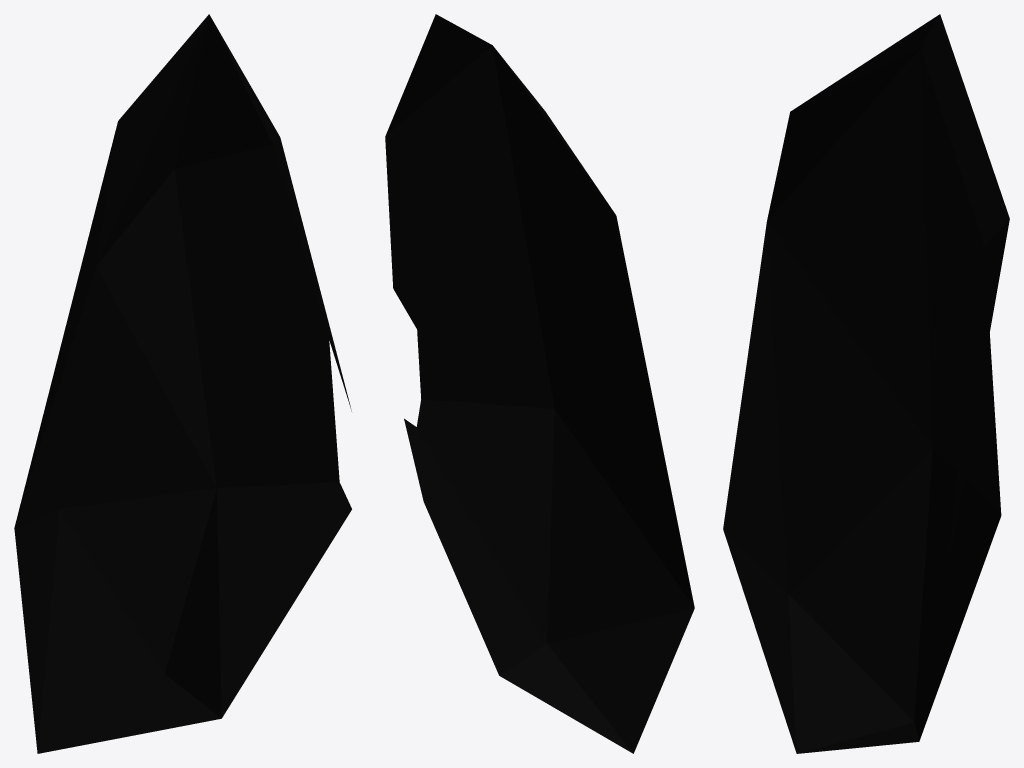
The picture shows the model from 3 angles, left to right: view 1: azimuth 30°, elevation 25°; view 2: azimuth 150°, elevation 25°; view 3: azimuth 270°, elevation 25°; orthographic projection. The views are drawn at different scales.
Bounding box in the file's own units: 0.0678 × 0.1598 × 0.051.
Materials: 1 (1 with a texture image).
